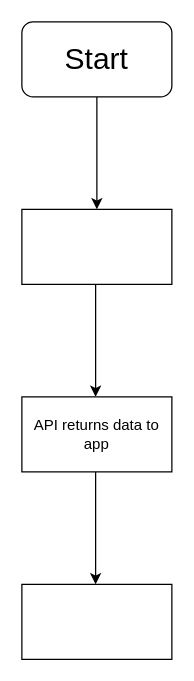
The diagram is 194 pixels wide and 681 high, and some of its shapes have lost their labels. Each missing label, with the centre of its shape:
"Data is stored in database" goes at (96,621).
"Response request to API" goes at (96,246).
